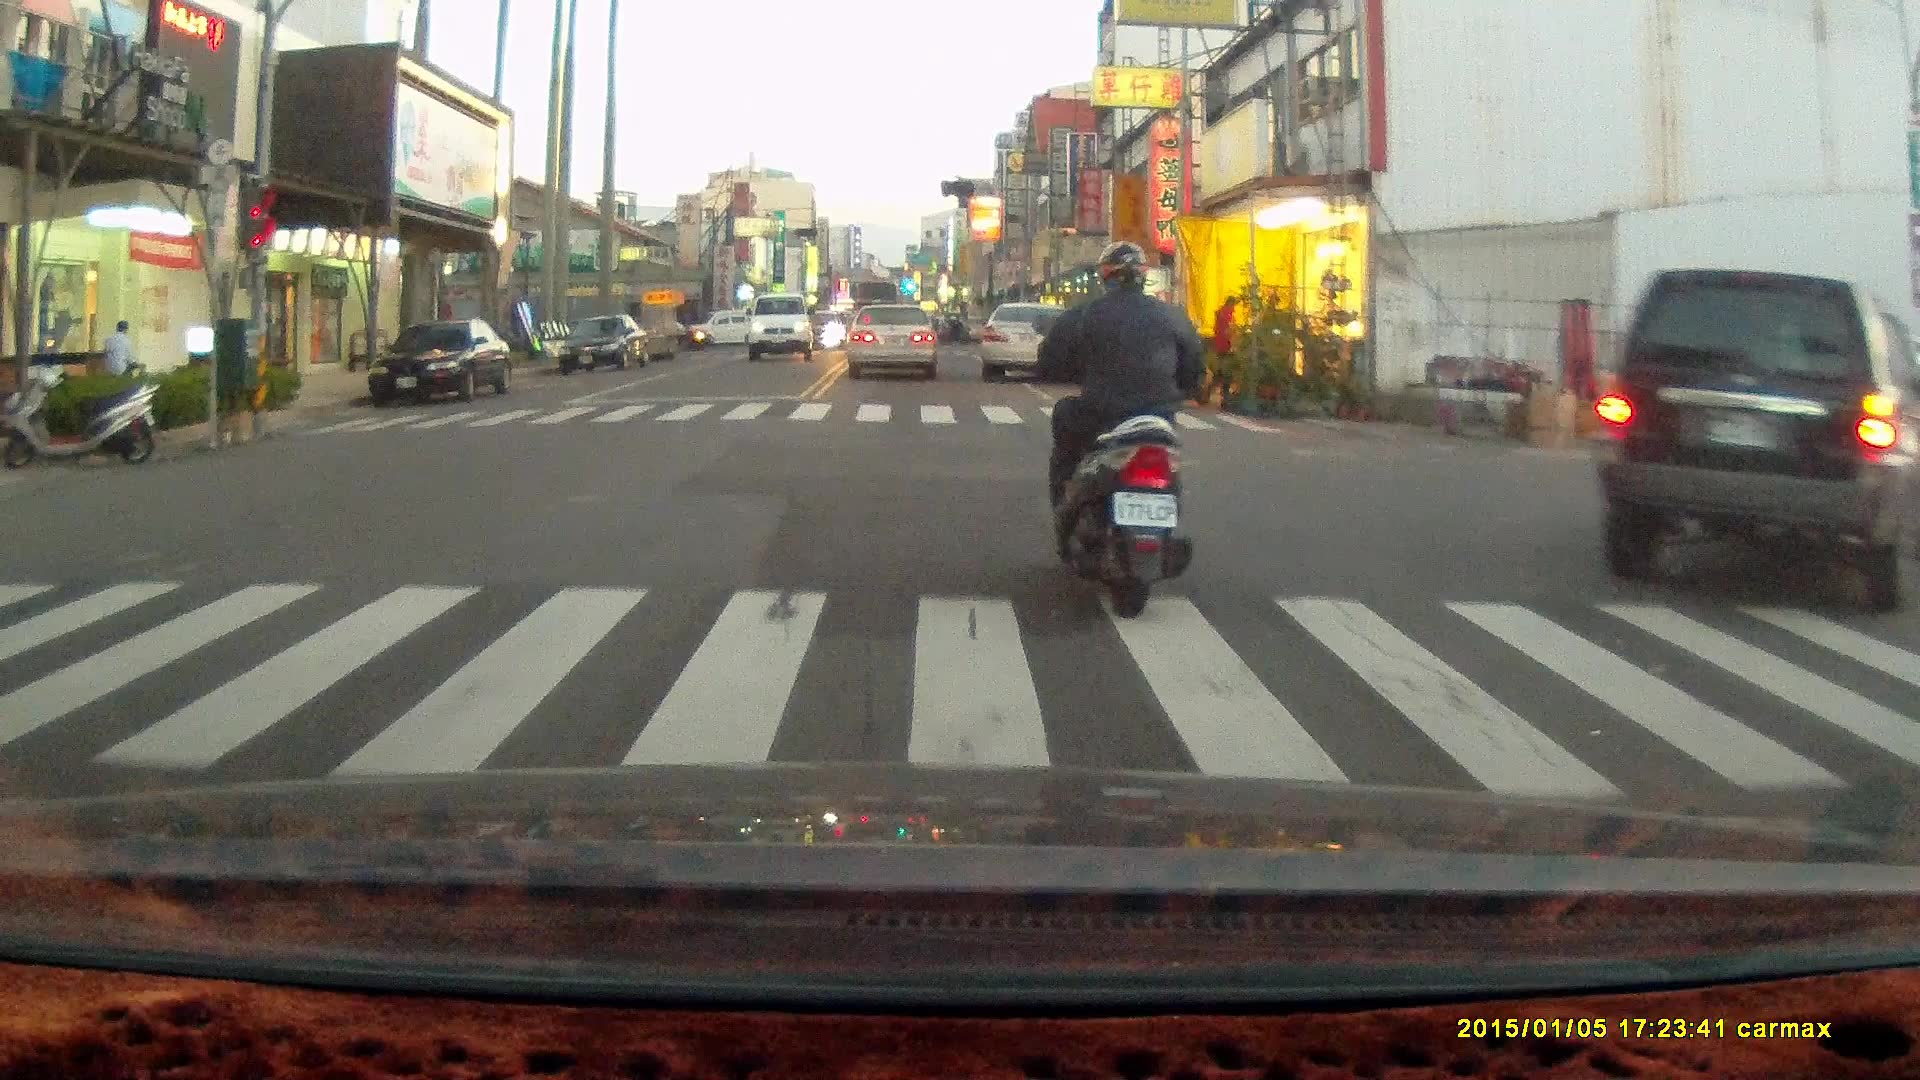pedestrian: (1206, 293, 1243, 406), (101, 317, 137, 388)
rider: (1034, 237, 1204, 616)
vehicle: (1588, 276, 1920, 607), (368, 316, 510, 411), (980, 300, 1089, 386), (847, 307, 939, 382), (559, 314, 651, 378), (749, 294, 817, 363)
